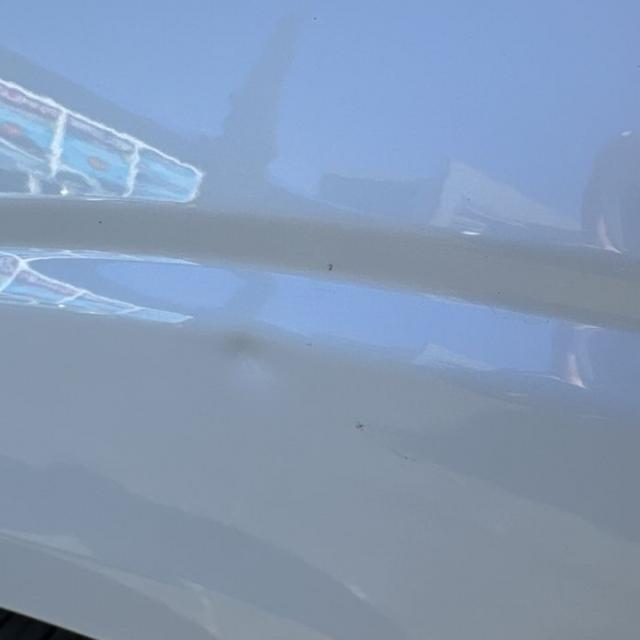dents: (139, 286, 340, 418)
